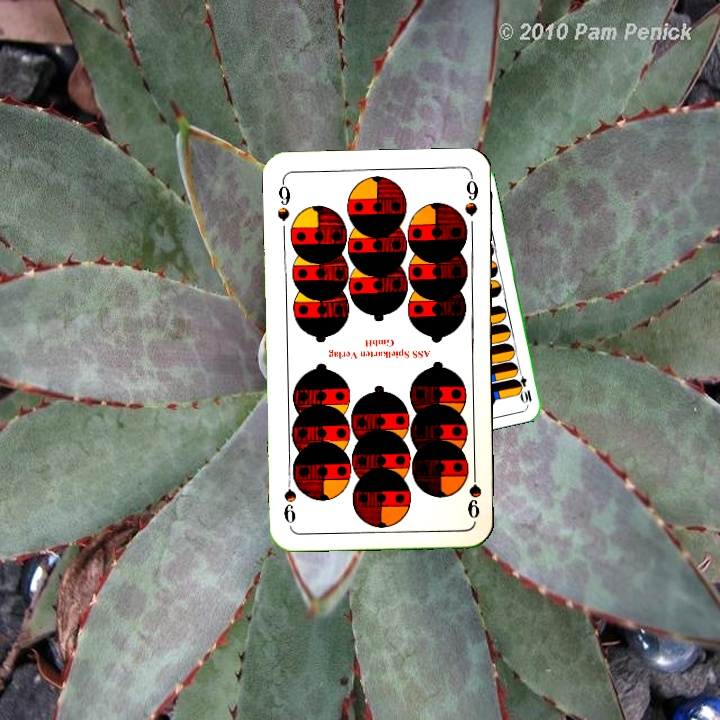E10: (513, 365, 534, 406)
S9: (463, 463, 484, 521), (273, 176, 294, 223)
